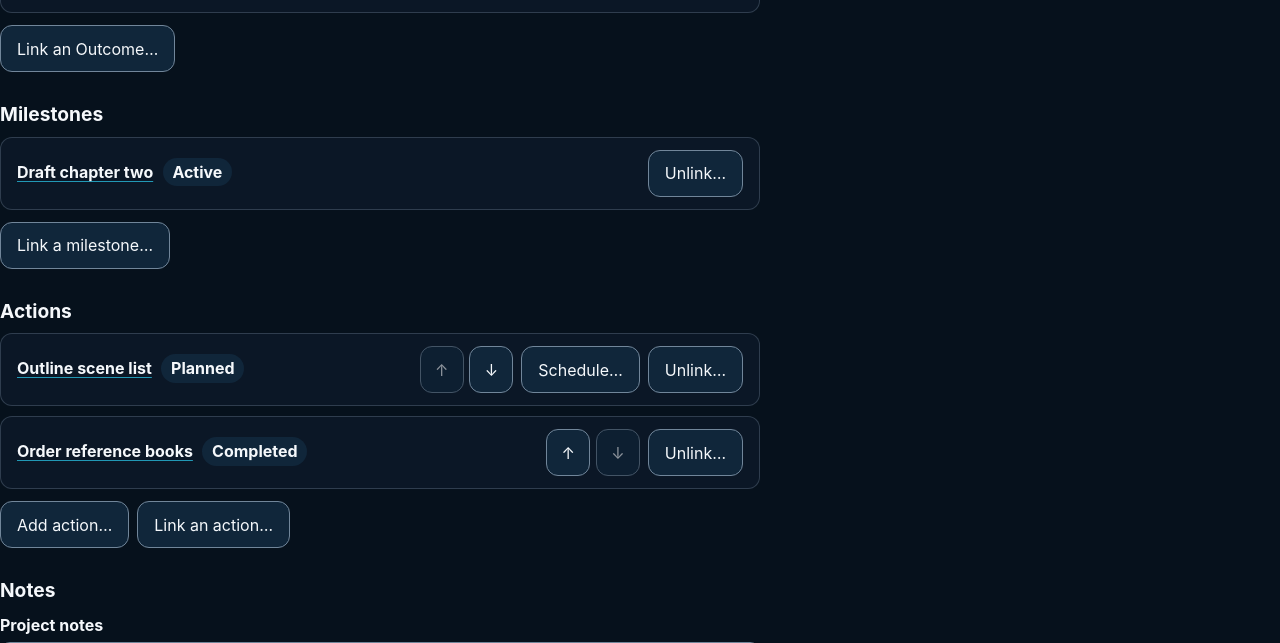
Test: Project detail page › schedules an unfinished Action through the shared Schedule dialog
(page scrolled)
Click the button named "Schedule… Outline scene list" at (581, 370), box [521,346,640,393]
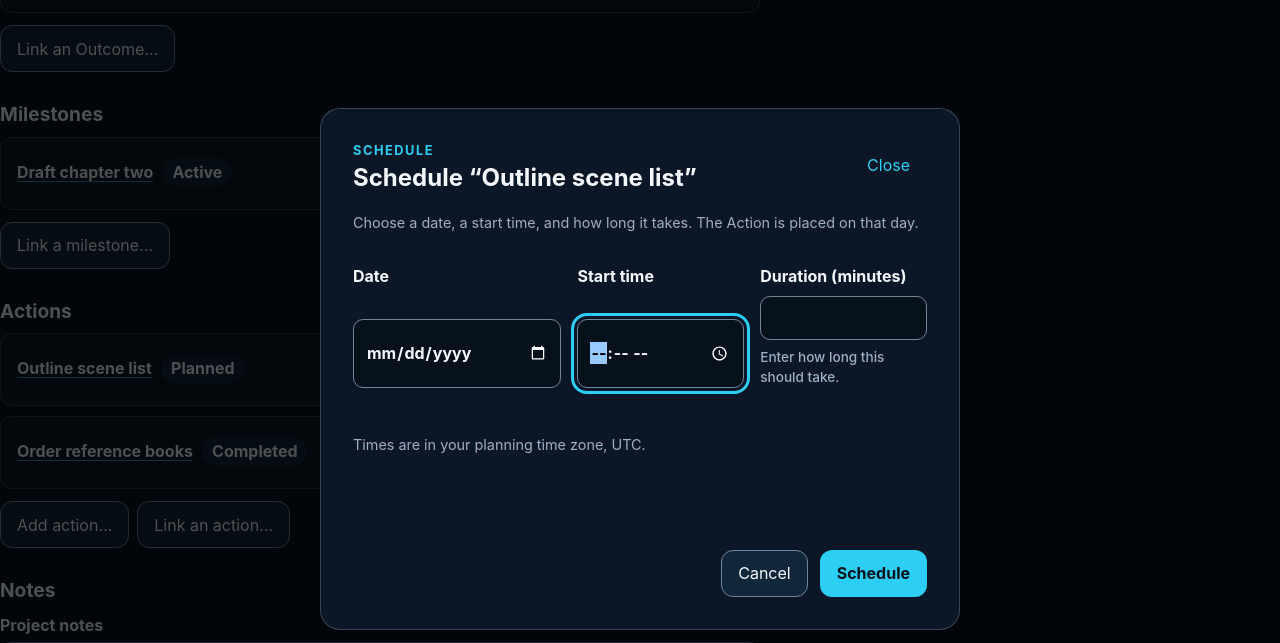
Click the button "Cancel" at (764, 573), box [721,550,808,597]
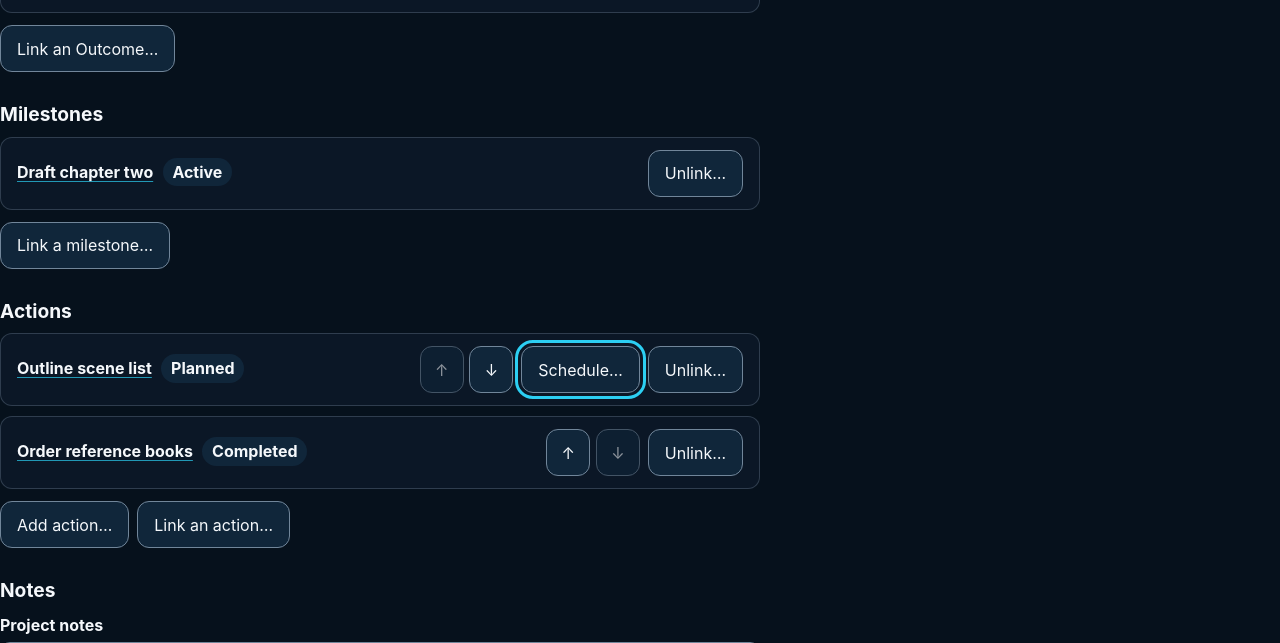
Expected: the dialog is gone
